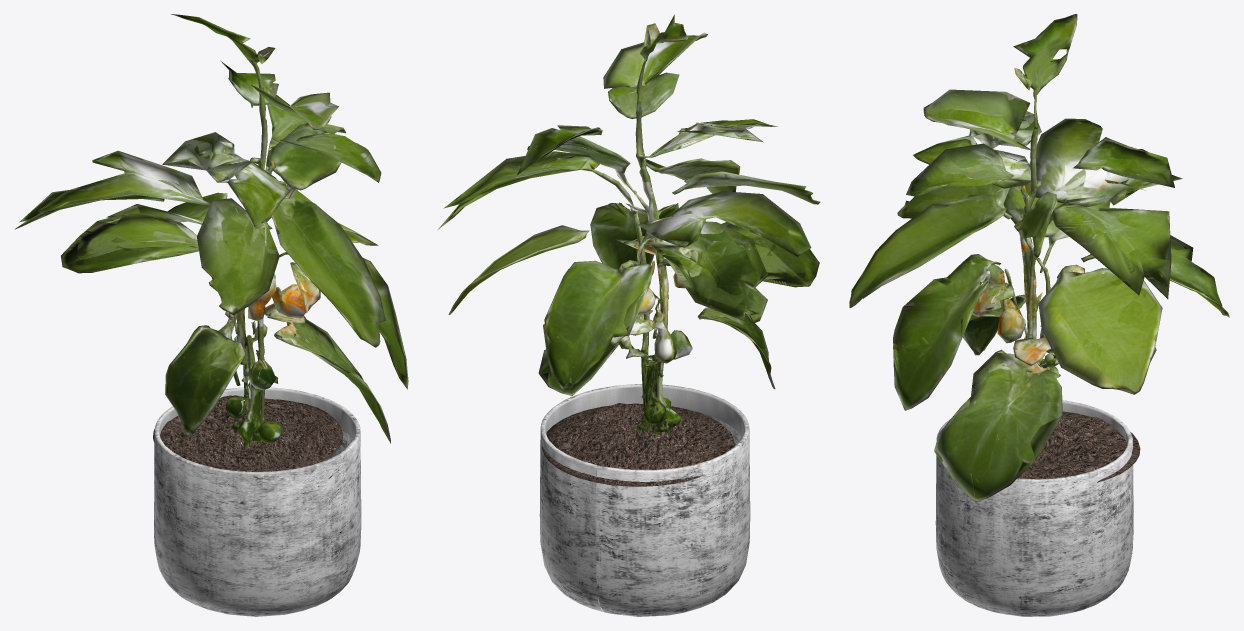
Rendered from Withania_Somnifera_.glb.
The picture shows the model from 3 angles, left to right: view 1: azimuth 30°, elevation 25°; view 2: azimuth 150°, elevation 25°; view 3: azimuth 270°, elevation 25°; orthographic projection. The views are drawn at different scales.
Parts seen in each view (by area): view 1: Mesh_0.002, G-AUL10_0; view 2: Mesh_0.002, G-AUL10_0; view 3: Mesh_0.002, G-AUL10_0.
Boxes of the visible parts, x1,y1,x2,y2 form: Mesh_0.002: [15, 14, 408, 448]; G-AUL10_0: [153, 387, 361, 616]; Mesh_0.002: [438, 14, 820, 436]; G-AUL10_0: [539, 384, 750, 616]; Mesh_0.002: [849, 14, 1229, 502]; G-AUL10_0: [935, 400, 1140, 616].
Size of the model in its own units: 1.26 by 2.07 by 1.3.
Materials: 3 (3 with a texture image).
